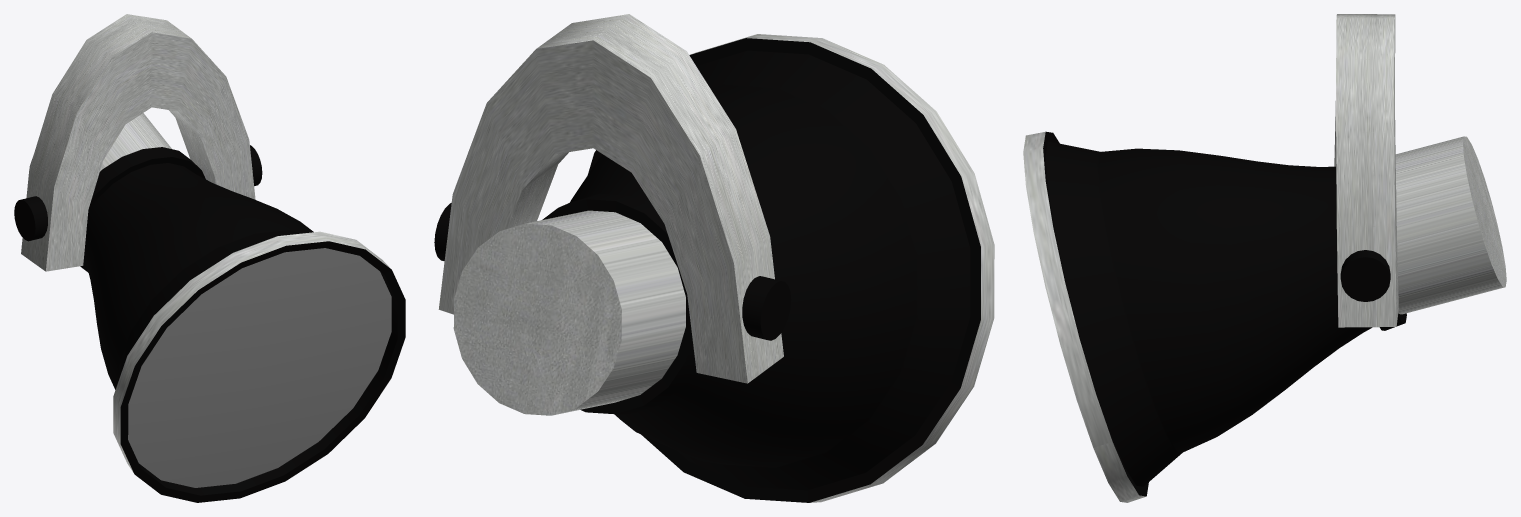
Rendered from LightBody.FBX.
The picture shows the model from 3 angles, left to right: view 1: azimuth 30°, elevation 25°; view 2: azimuth 150°, elevation 25°; view 3: azimuth 270°, elevation 25°; orthographic projection. The views are drawn at different scales.
Parts seen in each view (by area): view 1: pCylinder3, pCube1, pCylinder4; view 2: pCylinder3, pCube1, pCylinder4; view 3: pCylinder3, pCube1, pCylinder5.
Boxes of the visible parts, x1,y1,x2,y2 form: pCylinder3: [29, 113, 405, 502]; pCube1: [21, 14, 255, 271]; pCylinder4: [14, 196, 47, 241]; pCylinder3: [453, 34, 994, 502]; pCube1: [438, 14, 783, 383]; pCylinder4: [742, 276, 791, 340]; pCylinder3: [1023, 131, 1506, 502]; pCube1: [1334, 14, 1398, 327]; pCylinder5: [1340, 250, 1390, 301].
Bounding box in the file's own units: 9.4 × 12.66 × 11.85.
4 materials, 2 textured.
